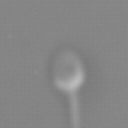normal: (57, 91, 85, 128)
